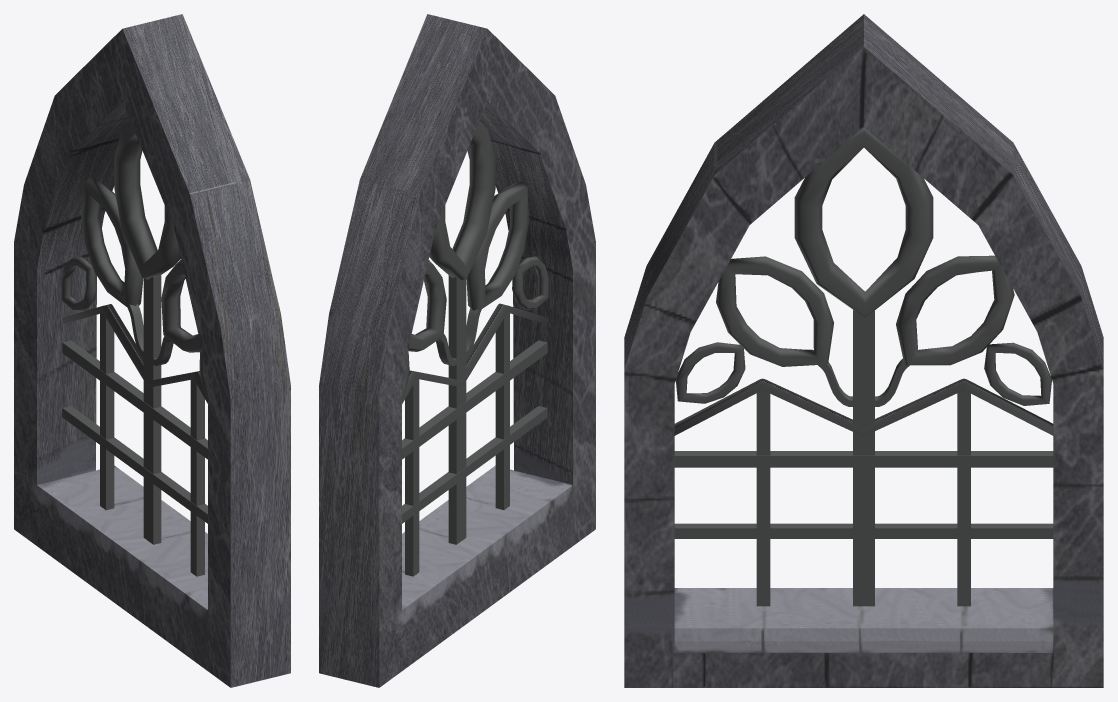
The model's file is window (1).fbx.
The picture shows the model from 3 angles, left to right: view 1: azimuth 30°, elevation 25°; view 2: azimuth 150°, elevation 25°; view 3: azimuth 270°, elevation 25°; orthographic projection. The views are drawn at different scales.
Parts seen in each view (by area): view 1: Cube, Cube.006; view 2: Cube, Cube.006; view 3: Cube, Cube.006.
Part boxes in pixels (x1=…): Cube: x1=14, y1=14, x2=290, y2=687; Cube.006: x1=61, y1=120, x2=207, y2=576; Cube: x1=319, y1=14, x2=595, y2=687; Cube.006: x1=402, y1=121, x2=549, y2=576; Cube: x1=624, y1=14, x2=1103, y2=687; Cube.006: x1=674, y1=127, x2=1053, y2=606.
Bounding box in the file's own units: 33.65 × 234 × 159.
